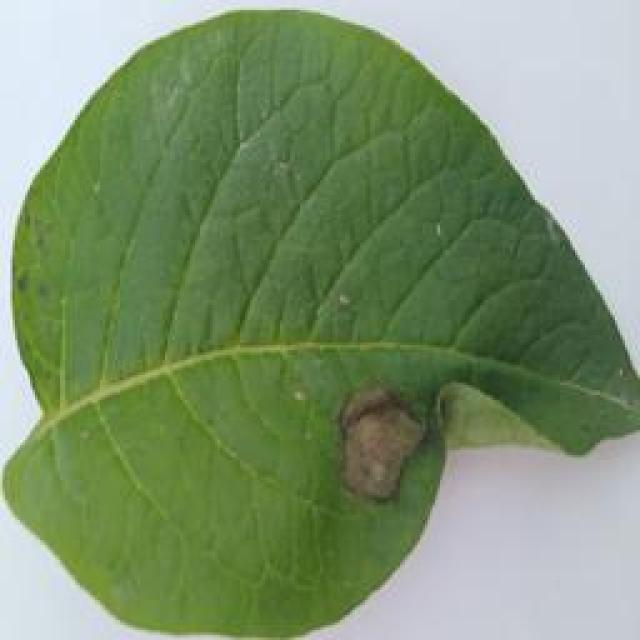Potato_Late_Blight: (8, 10, 628, 637)
